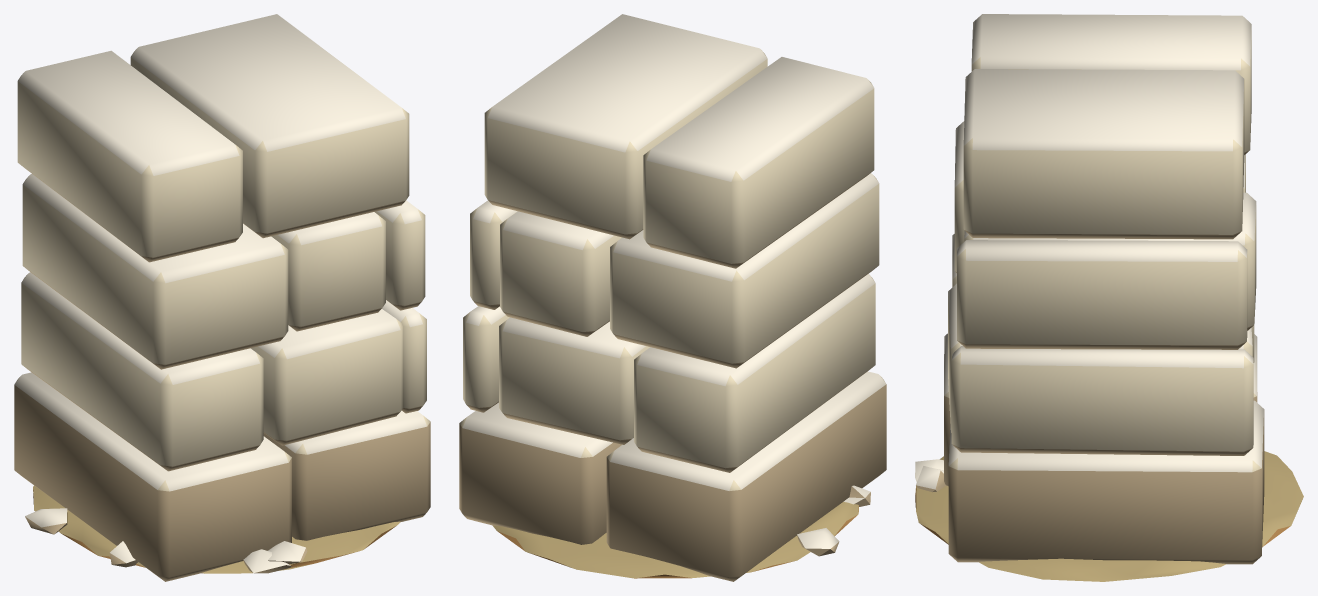
Rendered from MarbleBlocksA.fbx.
3 renders of one model, left to right at view 1: azimuth 30°, elevation 25°; view 2: azimuth 150°, elevation 25°; view 3: azimuth 270°, elevation 25°, orthographic. The views are drawn at different scales.
Parts seen in each view (by area): view 1: MarbleBlocksA; view 2: MarbleBlocksA; view 3: MarbleBlocksA.
Boxes of the visible parts, x1,y1,x2,y2 form: MarbleBlocksA: [14, 14, 430, 581]; MarbleBlocksA: [459, 14, 886, 581]; MarbleBlocksA: [915, 14, 1303, 581].
Bounding box in the file's own units: 1.77 × 2 × 1.69.
1 material, 1 textured.
